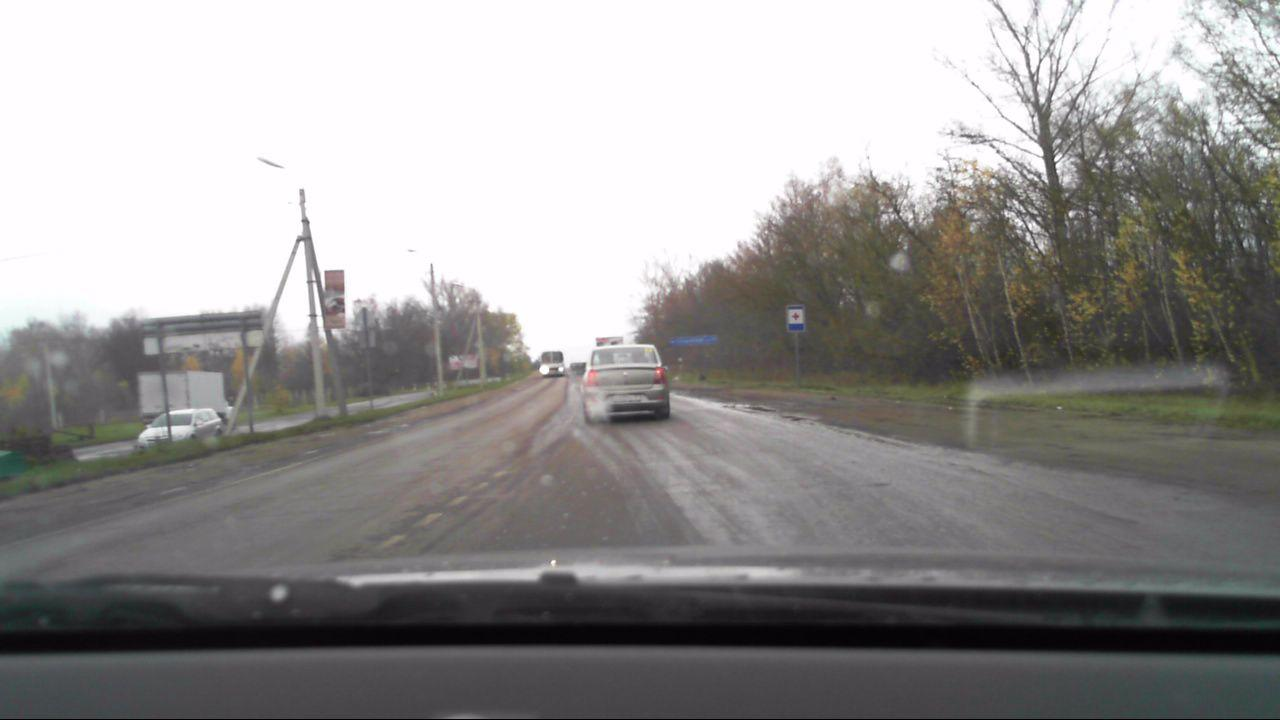7_1: (785, 303, 805, 335)
